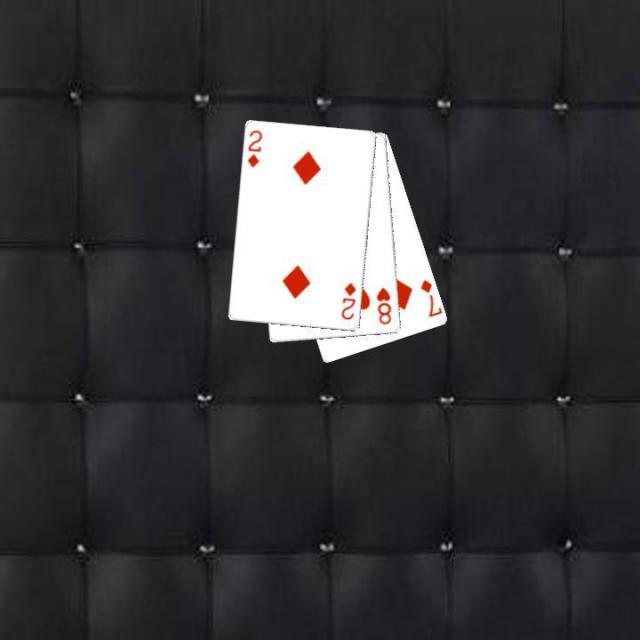2D: (338, 279, 358, 321), (244, 126, 264, 168)
7D: (417, 276, 443, 320)
8H: (372, 284, 394, 326)
